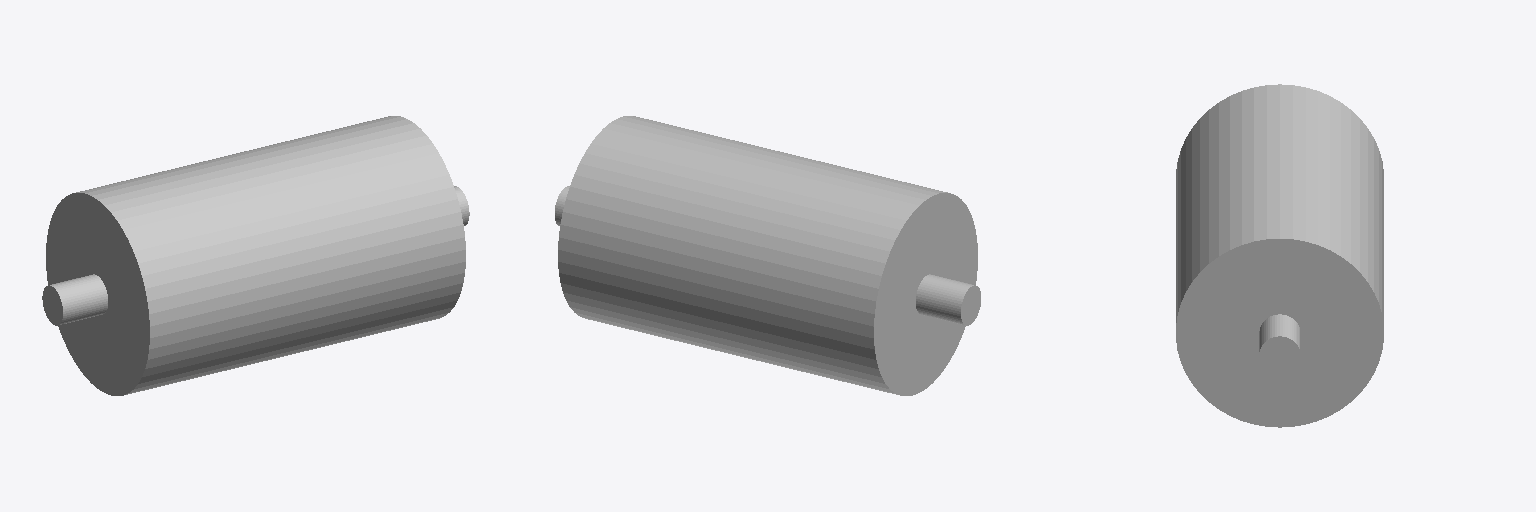
Rendered from Tr-Rouleau.obj.
The picture shows the model from 3 angles: view 1: azimuth 30°, elevation 25°; view 2: azimuth 150°, elevation 25°; view 3: azimuth 270°, elevation 25°; orthographic projection.
Visible parts, largest first — view 1: Tr-Rouleau_Rouleau_Cylinder.001; view 2: Tr-Rouleau_Rouleau_Cylinder.001; view 3: Tr-Rouleau_Rouleau_Cylinder.001.
Boxes of the visible parts, x1=… form: Tr-Rouleau_Rouleau_Cylinder.001: x1=42, y1=116, x2=469, y2=395; Tr-Rouleau_Rouleau_Cylinder.001: x1=555, y1=116, x2=980, y2=395; Tr-Rouleau_Rouleau_Cylinder.001: x1=1176, y1=84, x2=1383, y2=427.
Size of the model in its own units: 4.5 by 2 by 2.